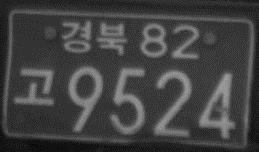2: (152, 69, 192, 138), (169, 23, 201, 61)
4: (196, 71, 237, 141)
5: (108, 66, 146, 134)
8: (139, 22, 169, 57)
9: (66, 65, 104, 133)
경북_O: (60, 18, 128, 56)
고: (12, 66, 56, 108)
